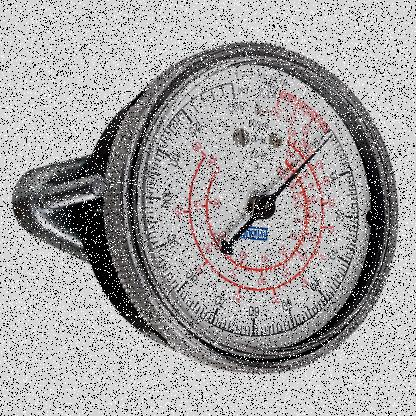needle: (268, 133, 334, 202)
